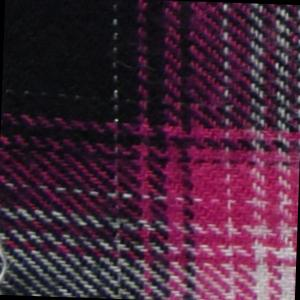Damage: (1, 233, 19, 296)
